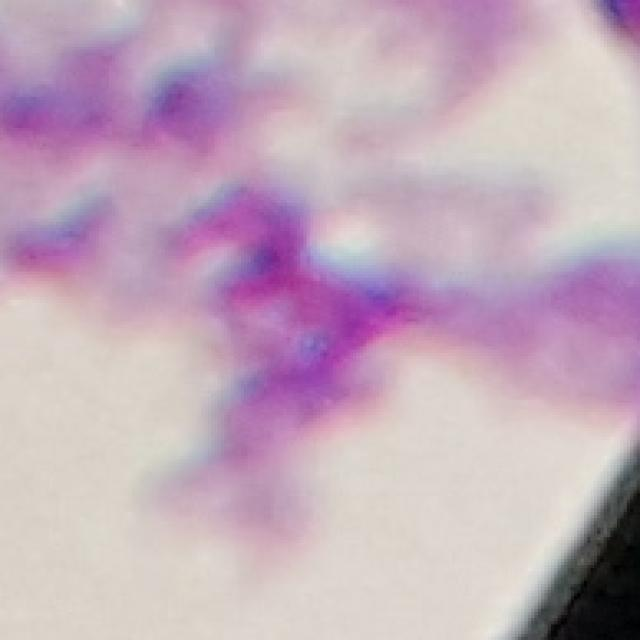non-sperm: (110, 125, 440, 572)
